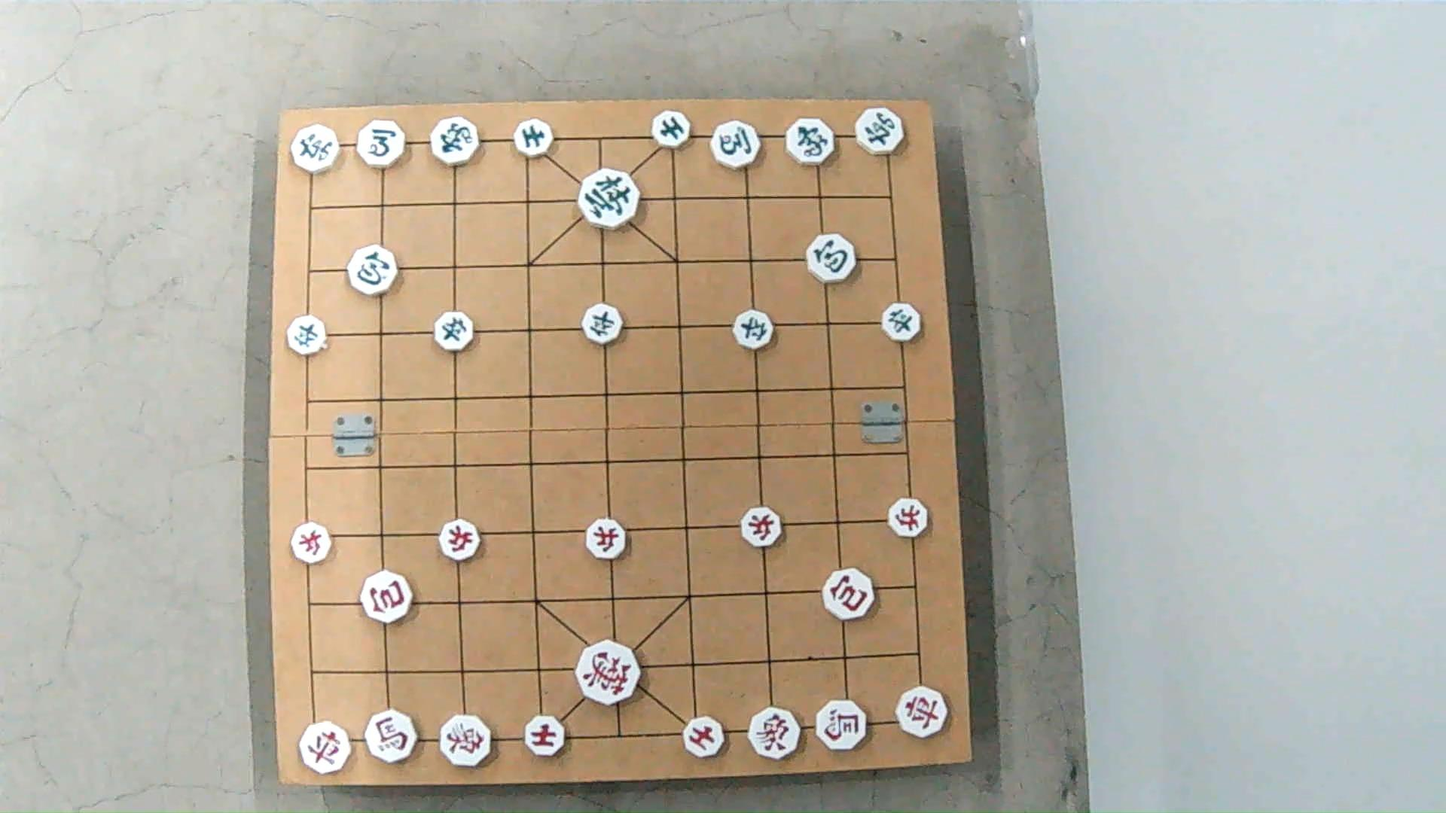cha_green: (291, 123, 343, 173), (856, 108, 905, 154)
cha_red: (302, 722, 351, 771), (898, 690, 951, 735)
jol_green: (583, 304, 625, 343), (430, 312, 472, 350), (732, 311, 773, 349), (288, 319, 328, 356), (876, 303, 917, 338)
jol_red: (441, 522, 484, 561), (290, 525, 334, 563), (588, 522, 630, 560), (739, 510, 781, 548), (886, 499, 928, 536)
ma_green: (712, 121, 762, 167), (359, 122, 410, 167)
ma_red: (364, 710, 417, 760), (816, 699, 866, 750)
po_green: (807, 231, 859, 285), (346, 248, 395, 294)
po_red: (824, 568, 877, 618), (360, 573, 413, 622)
sa_green: (512, 120, 555, 157), (651, 111, 693, 146)
sa_red: (683, 717, 726, 756), (522, 718, 564, 755)
sang_green: (430, 117, 482, 166), (786, 120, 835, 168)
sang_red: (440, 716, 493, 768), (749, 707, 801, 758)
wang_green: (577, 169, 640, 227)
wang_red: (575, 643, 642, 702)
